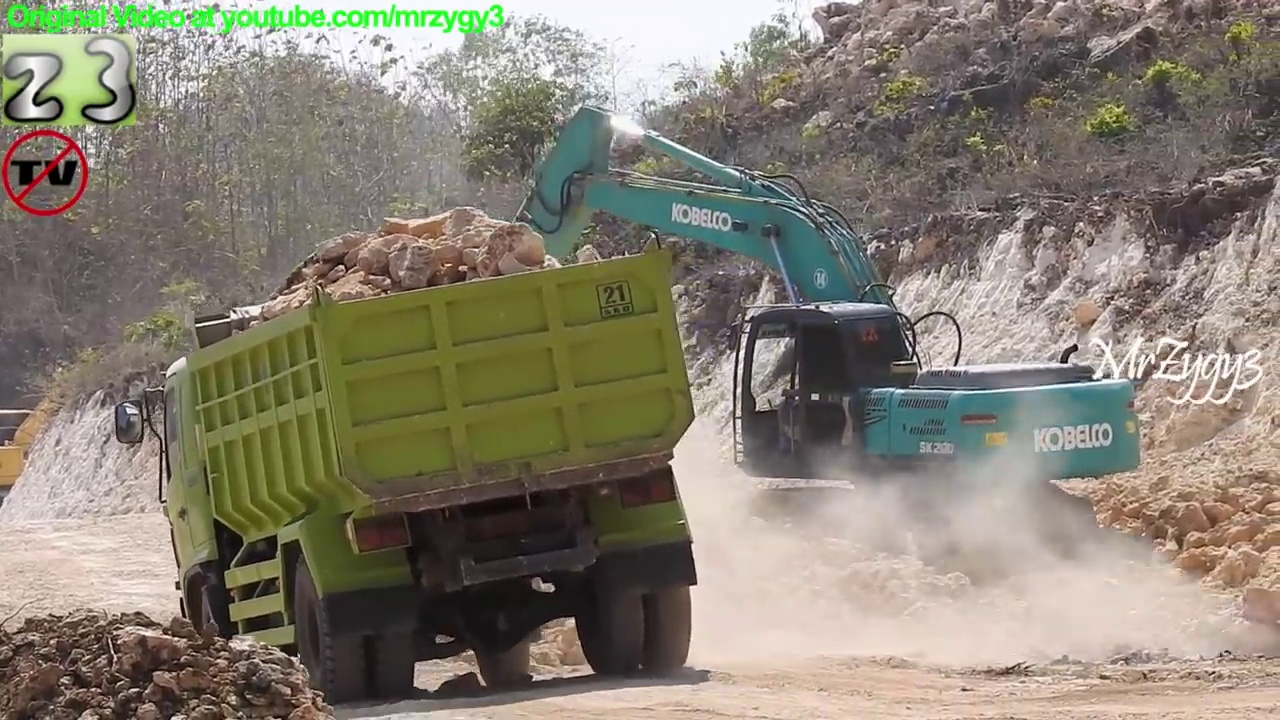excavator: (437, 99, 1151, 593), (1, 358, 103, 516)
truck: (110, 237, 710, 706)
